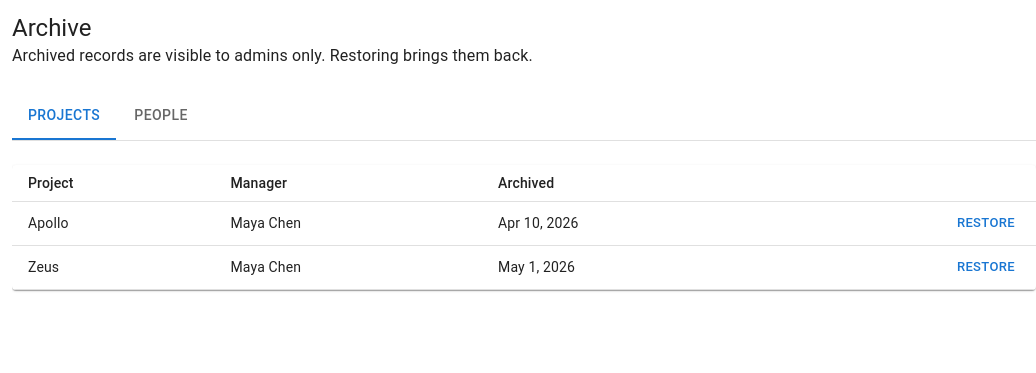
ArchivePage › shows why a restore failed, keeps the row, and lets the person dismiss the message
This screenshot has width=1036, height=373.
Click the button "Restore" in the row of "Apollo": (986, 223) [952,208,1020,239]
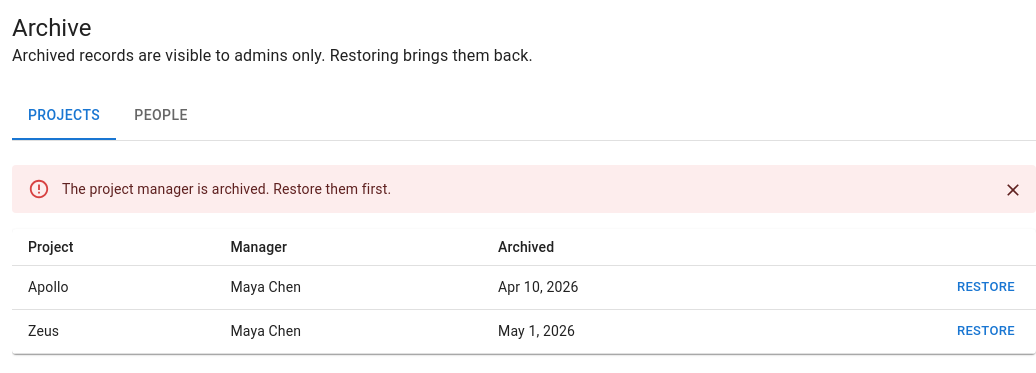
Expected: the text "Apollo" is shown, [12,266,214,309]
Expected: the message reads "The project manager is archived. Restore them first.", [62,181,391,197]
Click the button named "Close": (1013, 190) [998,175,1028,205]
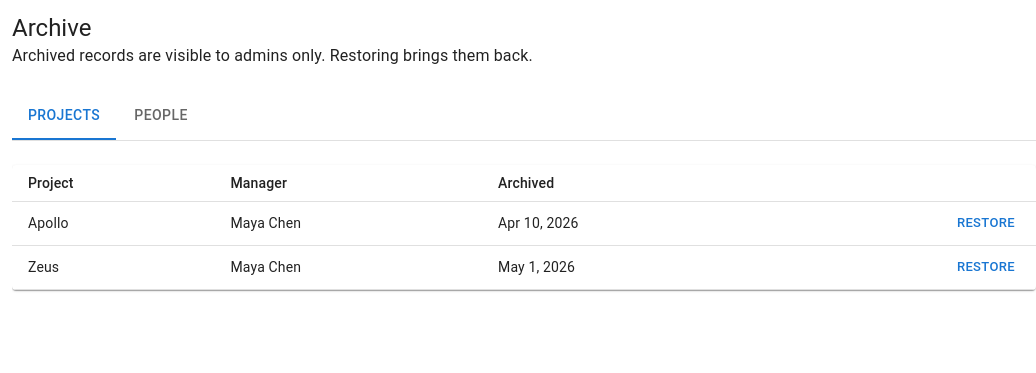
Expected: the message "The project manager is archived. Restore them first." is gone
